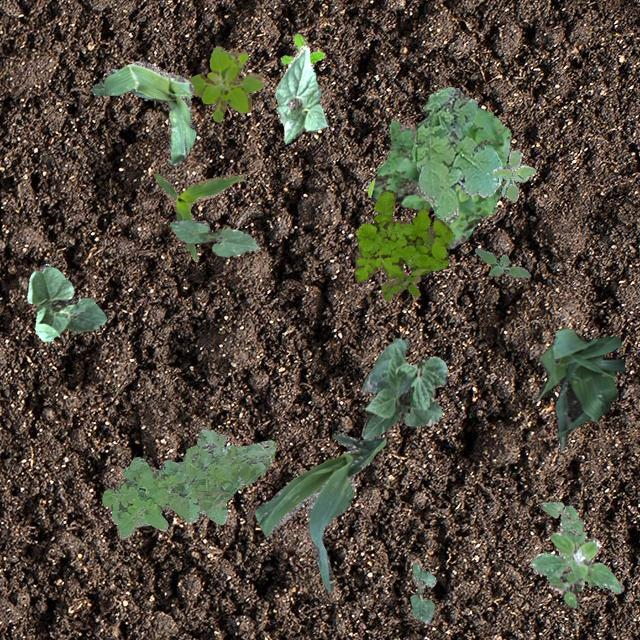crop: (253, 432, 384, 592), (90, 59, 194, 164), (536, 326, 622, 451), (361, 337, 446, 438), (153, 172, 245, 260), (26, 262, 106, 340), (274, 44, 328, 142), (168, 218, 258, 256), (408, 562, 434, 622), (540, 502, 582, 536)
weed: (366, 106, 508, 248), (100, 428, 274, 538), (411, 86, 502, 222), (530, 504, 622, 606), (354, 188, 452, 282), (186, 44, 264, 120), (492, 150, 534, 200), (474, 246, 530, 276), (280, 32, 324, 64), (380, 270, 420, 300)
